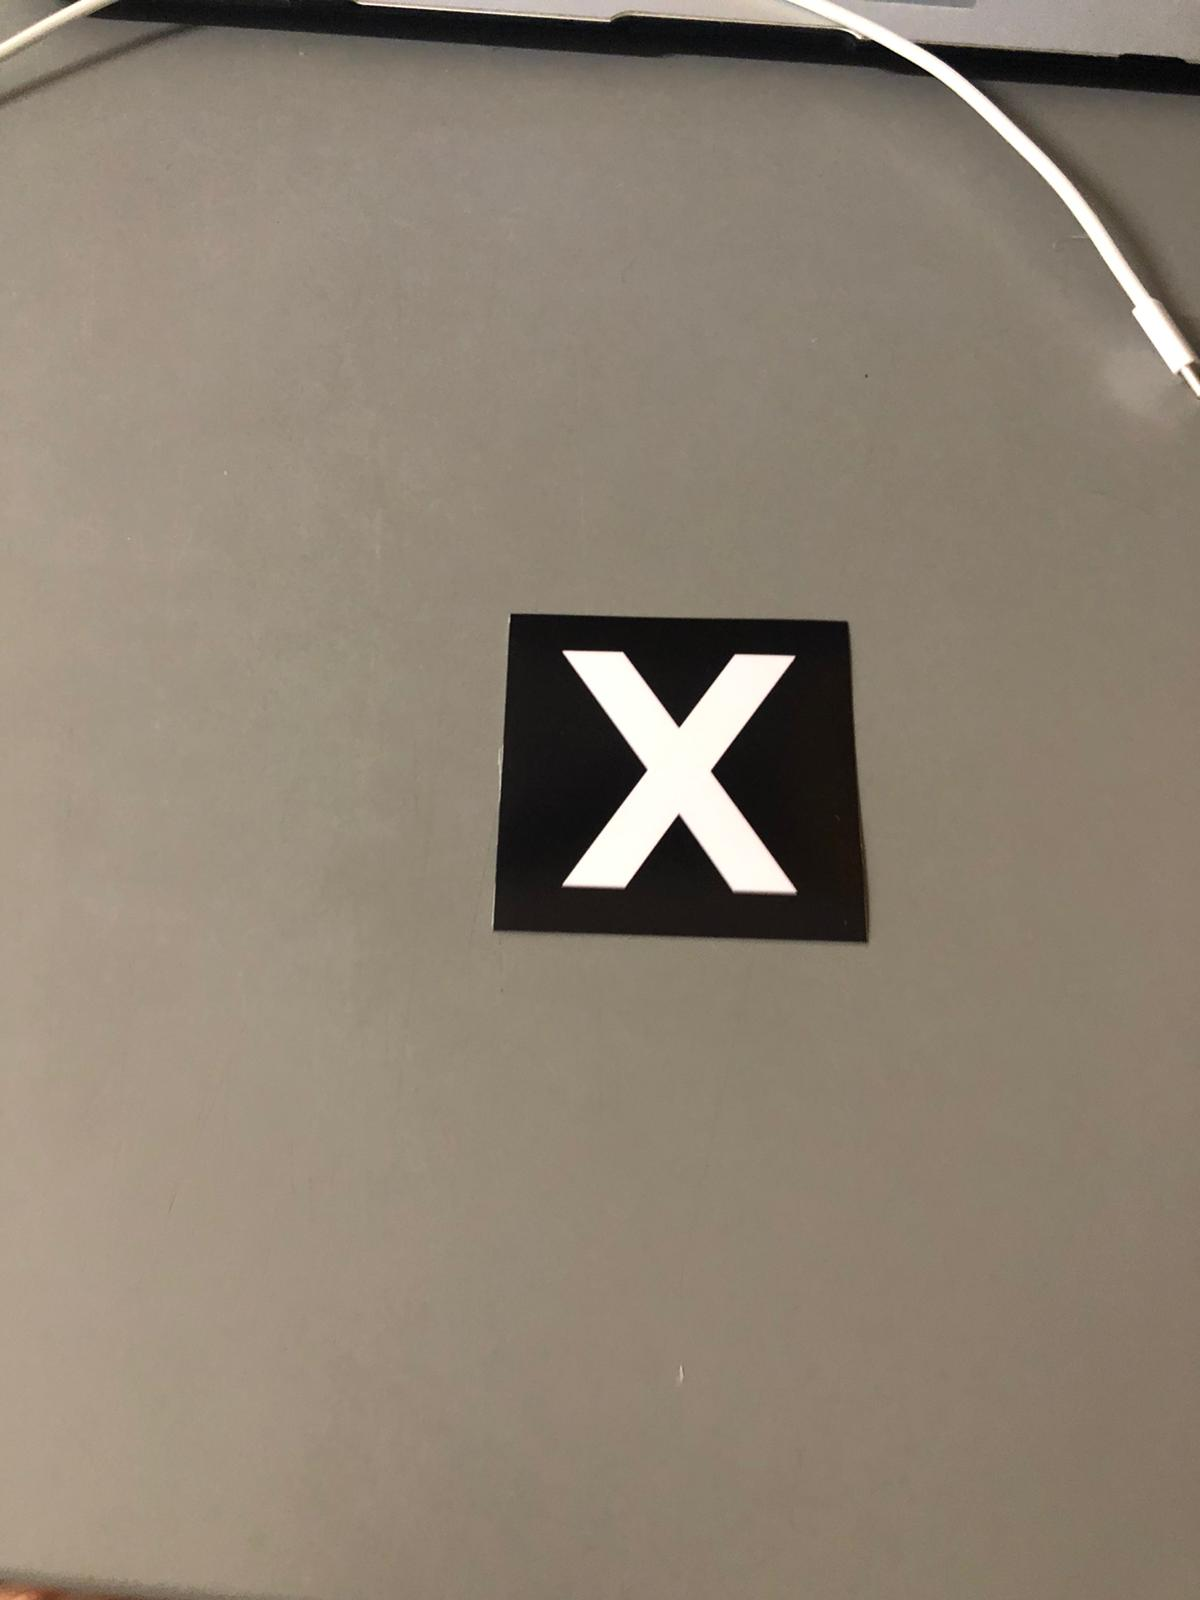X: (521, 629, 831, 936)
